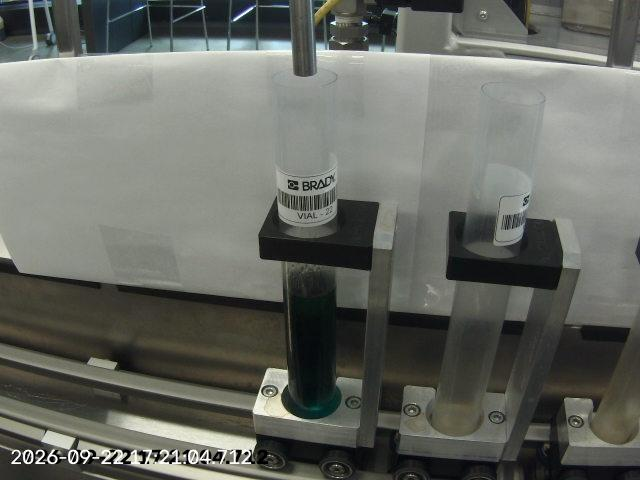vial: (427, 77, 548, 437), (271, 65, 343, 417)
